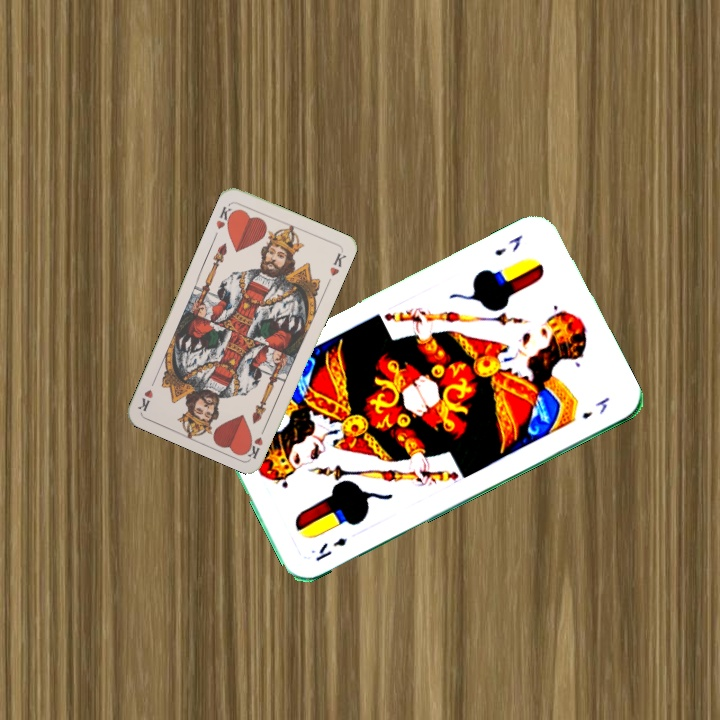EK: (311, 533, 350, 564), (490, 231, 526, 259)
HK: (243, 421, 269, 460), (212, 202, 238, 232)
